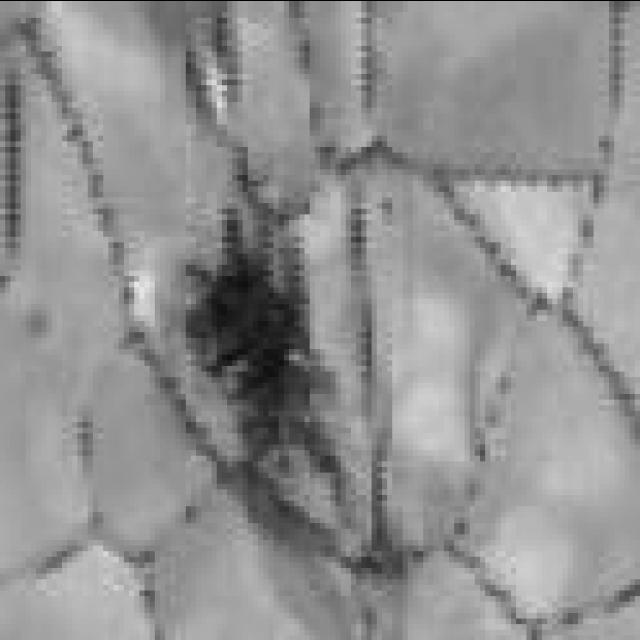good_void: (179, 210, 345, 493)
